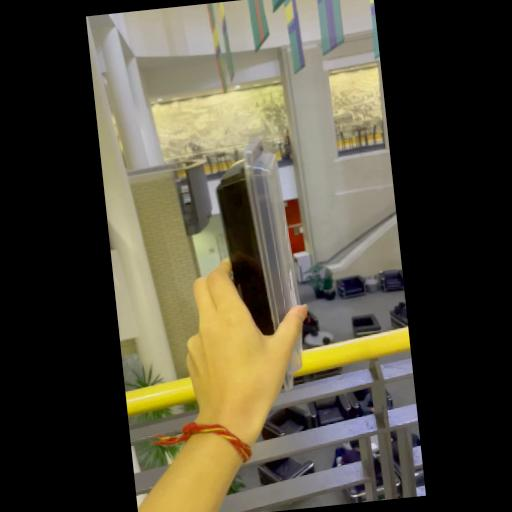rigid_plastic_container: (188, 136, 351, 418)
